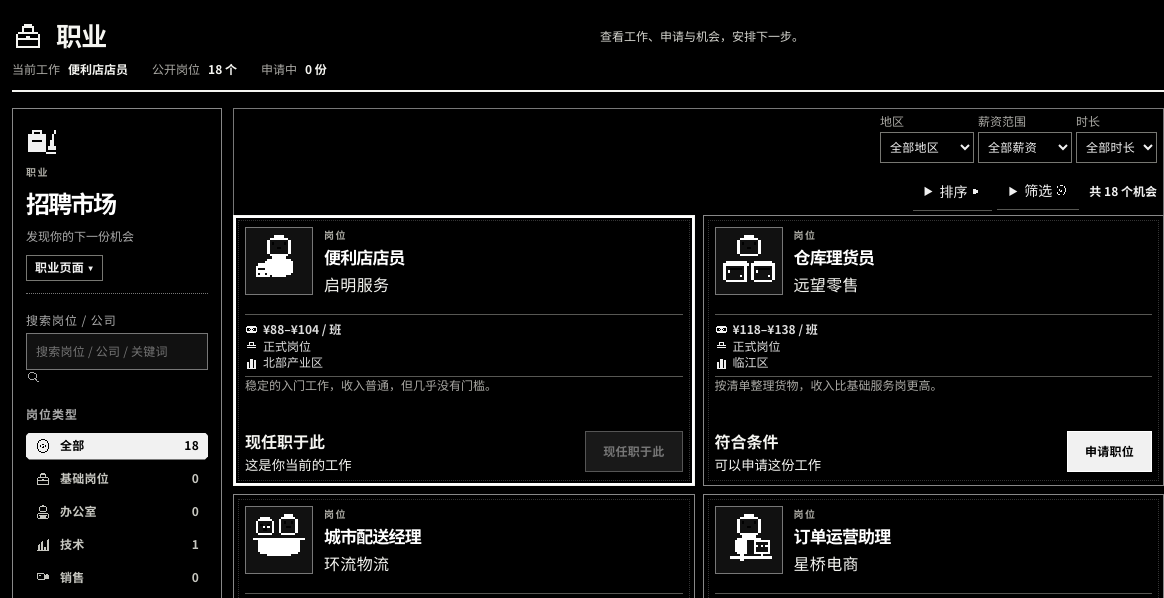
Test: 职业市场岗位卡片状态 › 岗位详情的门槛读数使用比较语义而不是“58/10”
Click the button with aria-label "查看岗位详情：仓库理货员". click: (748, 261)
box: x1=714 y1=227 x2=1152 y2=305
(page scrolled)
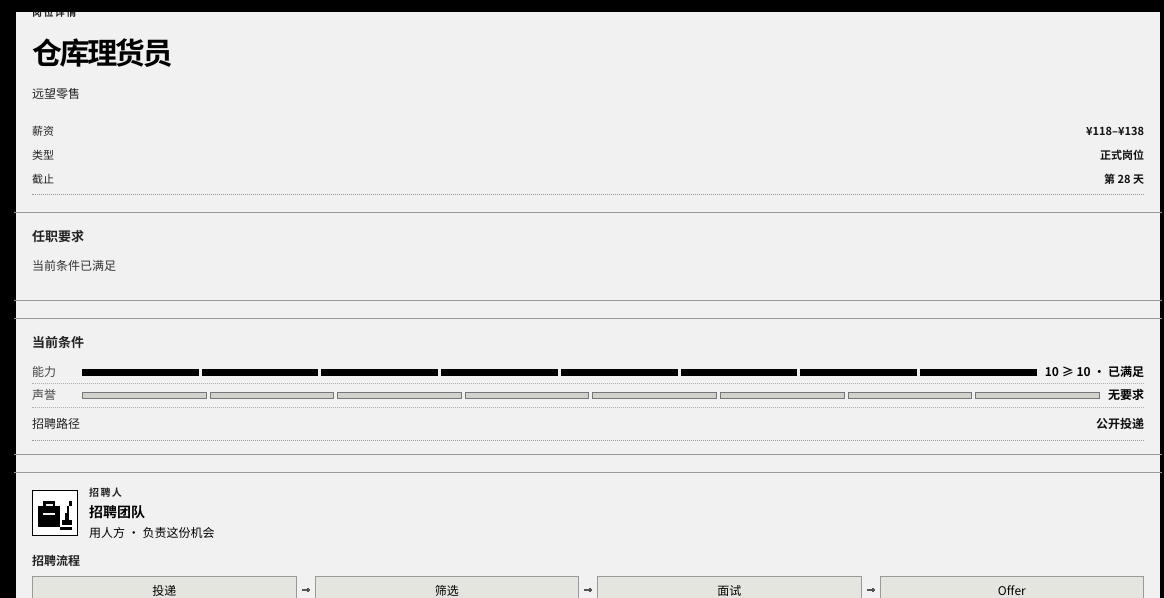
Result: the text "10 ≥ 10 · 已满足" is shown at x1=1045 y1=365 x2=1144 y2=379
